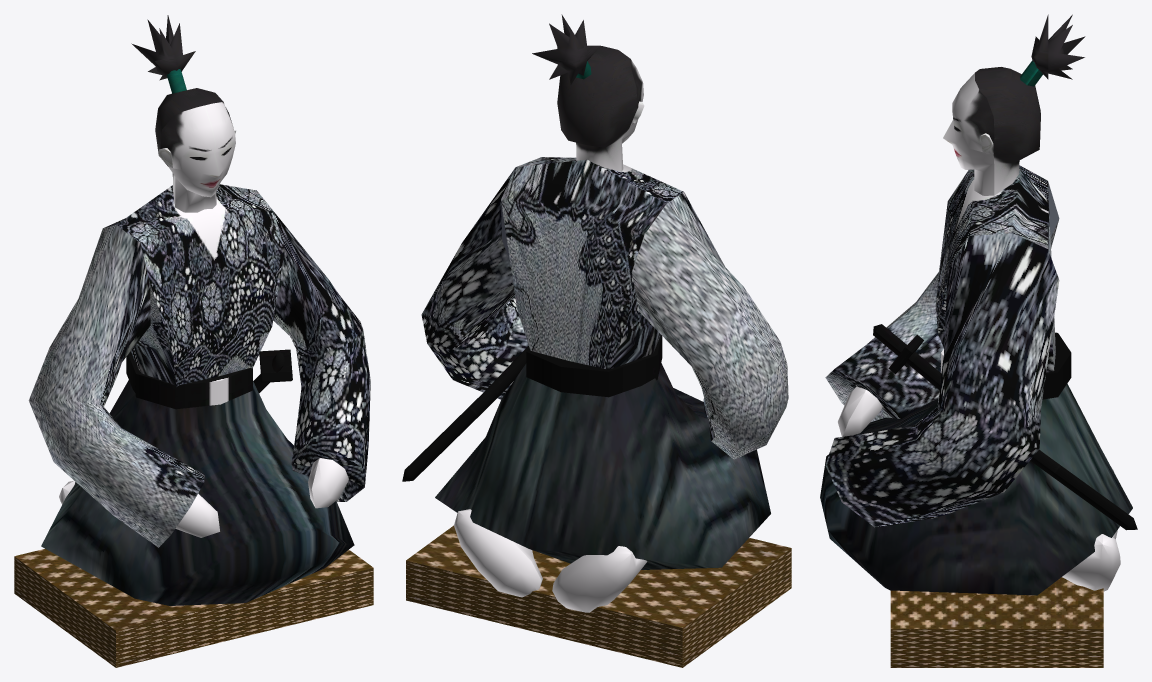
The model's file is SamouraiSculpture1.a.fbx.
3 views of the same model, side by side, from view 1: azimuth 30°, elevation 25°; view 2: azimuth 150°, elevation 25°; view 3: azimuth 270°, elevation 25° (orthographic). The views are drawn at different scales.
Parts seen in each view (by area): view 1: Group 0; view 2: Group 0; view 3: Group 0.
Boxes of the visible parts, bbox=[...] form: Group 0: bbox=[14, 15, 373, 667]; Group 0: bbox=[402, 14, 791, 667]; Group 0: bbox=[820, 14, 1137, 667].
Bounding box in the file's own units: 29.87 × 50.33 × 24.88.
Materials: 1 (1 with a texture image).
